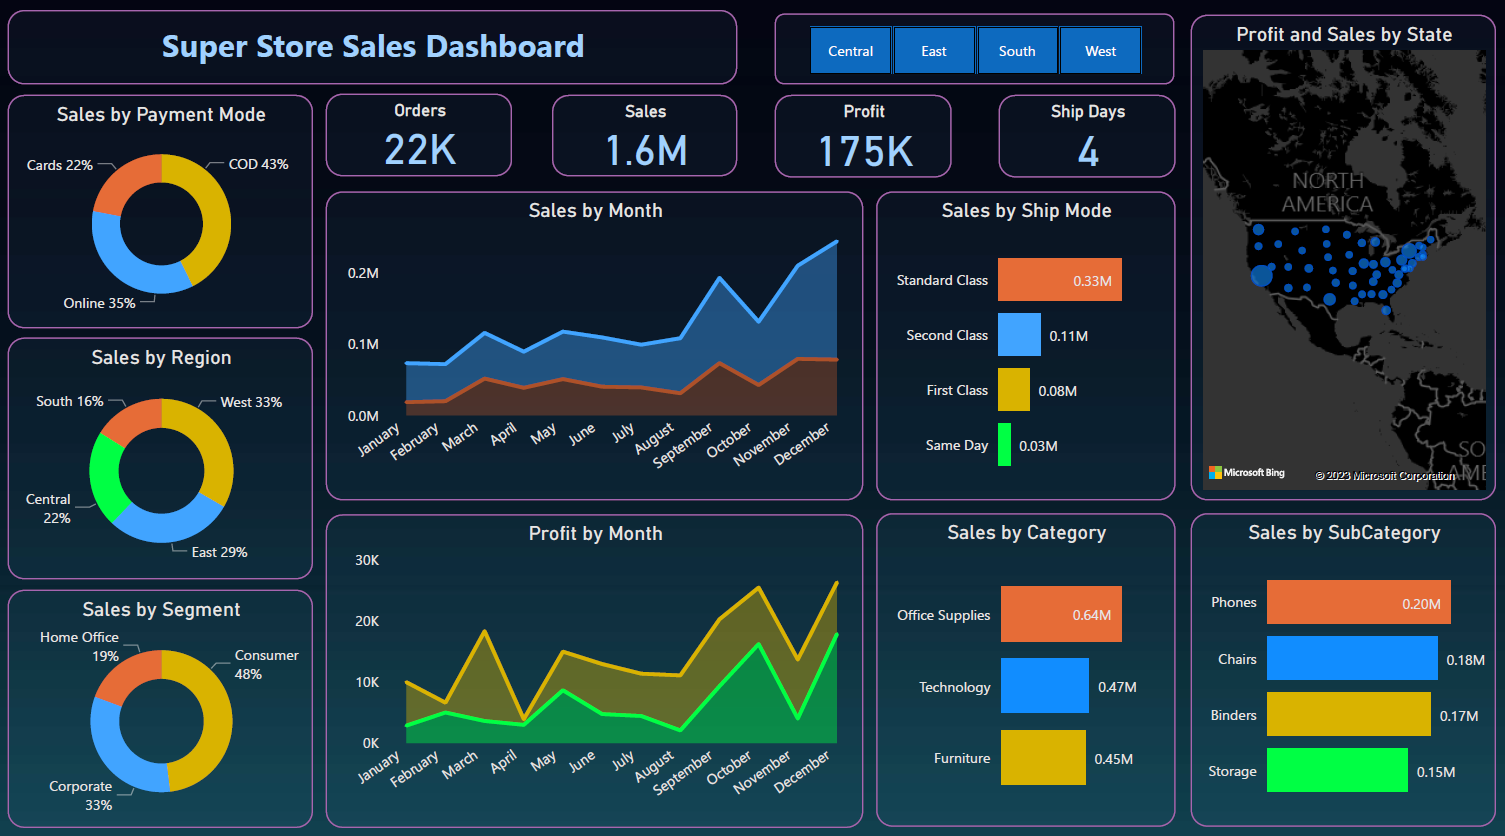

What the dashboard file says about the page in this screenshot:
{"tool":"powerbi","page":{"name":"SuperStore","canvas":[1280,720],"ordinal":0},"visuals":[{"type":"clusteredBarChart","title":"Sales by Category","fields":{"Category":["SuperStore_Sales.Category"],"Y":["Sum(SuperStore_Sales.Sales)"]},"box":[745,436.7,253.9,266.5],"z":0},{"type":"clusteredBarChart","title":"Sales by SubCategory","fields":{"Y":["Sum(SuperStore_Sales.Sales)"],"Category":["SuperStore_Sales.Sub-Category"]},"box":[1011.6,436.7,259.7,266.5],"z":1000},{"type":"clusteredBarChart","title":"Sales by Ship Mode","fields":{"Y":["Sum(SuperStore_Sales.Sales)"],"Category":["SuperStore_Sales.Ship Mode"]},"box":[745,164.4,253.9,261.6],"z":2000},{"type":"stackedAreaChart","title":"Sales by Month","fields":{"Y":["Sum(SuperStore_Sales.Sales)"],"Series":["SuperStore_Sales.Order Date.Variation.Date Hierarchy.Year"],"Category":["SuperStore_Sales.Order Date.Variation.Date Hierarchy.Month"]},"box":[278.2,164.4,456.2,261.6],"z":3000},{"type":"stackedAreaChart","title":"Profit by Month","fields":{"Series":["SuperStore_Sales.Order Date.Variation.Date Hierarchy.Year"],"Category":["SuperStore_Sales.Order Date.Variation.Date Hierarchy.Month"],"Y":["Sum(SuperStore_Sales.Profit)"]},"box":[278.2,437.7,456.2,266.5],"z":4000},{"type":"map","title":"Profit and Sales by State","fields":{"Category":["SuperStore_Sales.State"],"Size":["Sum(SuperStore_Sales.Sales)"]},"box":[1011.6,13.6,259.7,412.4],"z":5000},{"type":"donutChart","title":"Sales by Segment","fields":{"Category":["SuperStore_Sales.Segment"],"Y":["Sum(SuperStore_Sales.Sales)"]},"box":[7.8,501.9,259.7,202.3],"z":6000},{"type":"donutChart","title":"Sales by Payment Mode","fields":{"Y":["Sum(SuperStore_Sales.Sales)"],"Category":["SuperStore_Sales.Payment Mode"]},"box":[7.8,81.7,259.7,198.4],"z":7000},{"type":"slicer","fields":{"Values":["SuperStore_Sales.Region"]},"box":[659.5,12.6,338.5,60.3],"z":8000},{"type":"textbox","box":[7.8,9.7,619.6,63.2],"z":9000},{"type":"card","title":"Sales","fields":{"Values":["Sum(SuperStore_Sales.Sales)"]},"box":[469.8,81.7,157.6,69.1],"z":10000},{"type":"card","title":"Orders","fields":{"Values":["Sum(SuperStore_Sales.Quantity)"]},"box":[278.2,80.7,157.6,70],"z":11000},{"type":"card","title":"Profit","fields":{"Values":["Sum(SuperStore_Sales.Profit)"]},"box":[659.5,81.7,149.8,70],"z":12000},{"type":"card","title":"Ship Days","fields":{"Values":["Avg(SuperStore_Sales.AvgDelivery)"]},"box":[849.1,81.7,149.8,70],"z":13000},{"type":"donutChart","title":"Sales by Payment Mode","fields":{"Y":["Sum(SuperStore_Sales.Sales)"],"Category":["SuperStore_Sales.Region"]},"box":[7.8,287.9,259.7,205.2],"z":14000}]}

Visuals, with their boxes in screenshot pixels (x1, y1, x2, y2), scaled from the page's 1280x720 canvas onto the 1505x836 screenshot:
"Sales by Category" clusteredBarChart: locate(876, 507, 1174, 816)
"Sales by SubCategory" clusteredBarChart: locate(1189, 507, 1495, 816)
"Sales by Ship Mode" clusteredBarChart: locate(876, 191, 1174, 495)
"Sales by Month" stackedAreaChart: locate(327, 191, 863, 495)
"Profit by Month" stackedAreaChart: locate(327, 508, 863, 818)
"Profit and Sales by State" map: locate(1189, 16, 1495, 495)
"Sales by Segment" donutChart: locate(9, 583, 315, 818)
"Sales by Payment Mode" donutChart: locate(9, 95, 315, 325)
slicer - SuperStore_Sales.Region: locate(775, 15, 1173, 85)
textbox: locate(9, 11, 738, 85)
"Sales" card: locate(552, 95, 738, 175)
"Orders" card: locate(327, 94, 512, 175)
"Profit" card: locate(775, 95, 952, 176)
"Ship Days" card: locate(998, 95, 1174, 176)
"Sales by Payment Mode" donutChart: locate(9, 334, 315, 573)
